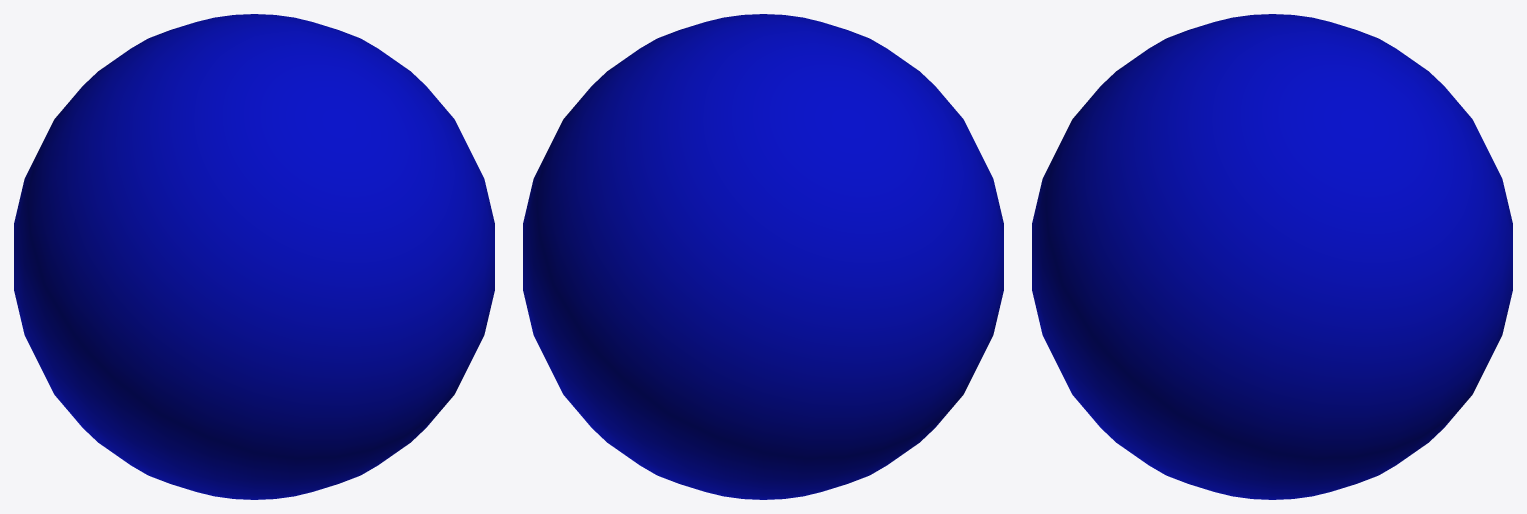
The picture shows the model from 3 angles, left to right: view 1: azimuth 30°, elevation 25°; view 2: azimuth 150°, elevation 25°; view 3: azimuth 270°, elevation 25°; orthographic projection.
Visible parts, largest first — view 1: Sphere; view 2: Sphere; view 3: Sphere.
Part boxes in pixels (x1=…): Sphere: x1=14, y1=14, x2=494, y2=499; Sphere: x1=523, y1=14, x2=1003, y2=499; Sphere: x1=1032, y1=14, x2=1512, y2=499.
Size of the model in its own units: 99.45 by 100 by 98.91.
